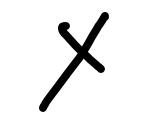mult: (38, 12, 109, 110)
